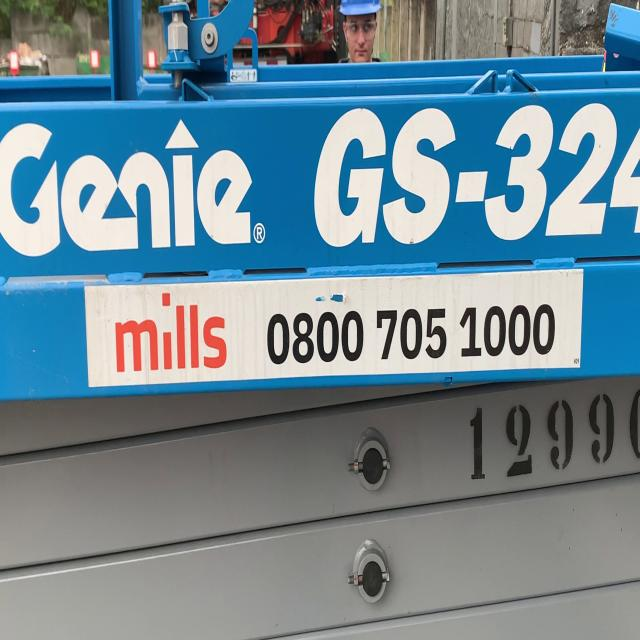Adesivo Longo: (84, 265, 587, 389)
